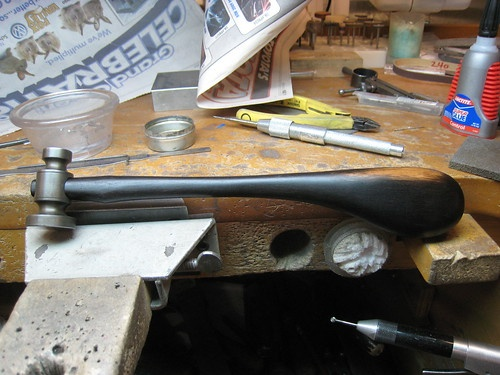hammer: (24, 145, 466, 241)
